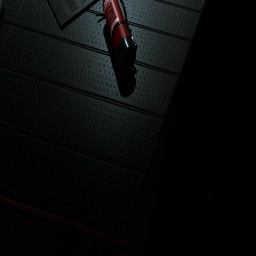FireExtinguisher ]: (103, 0, 138, 72)
